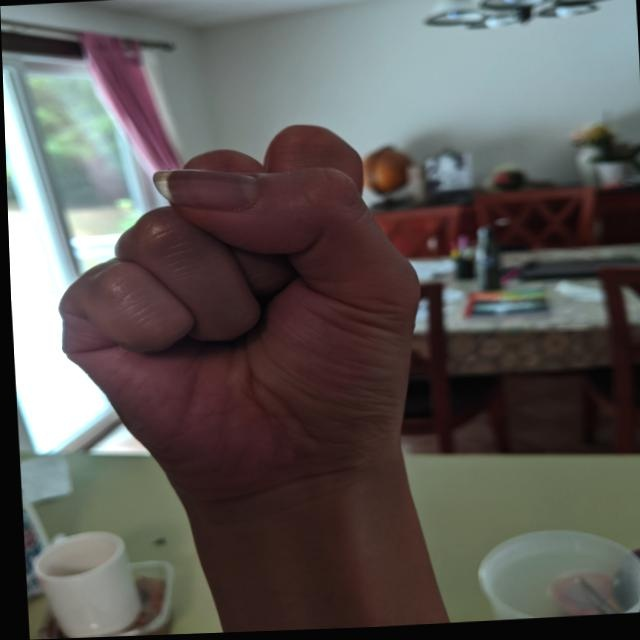S: (37, 114, 440, 518)
